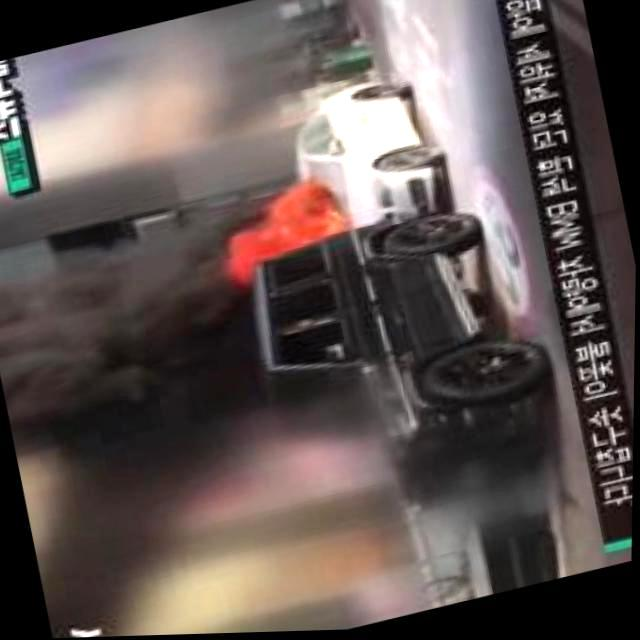fire: (214, 195, 346, 291)
